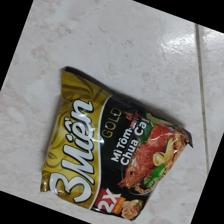3mien: (40, 66, 194, 222)
